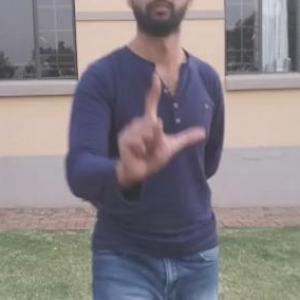land_hand: (111, 67, 207, 188)
